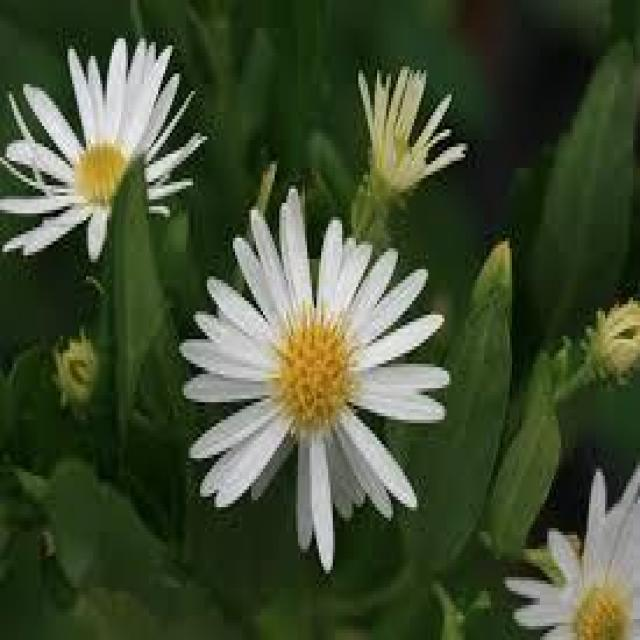organic waste: (182, 187, 449, 558), (7, 33, 209, 264), (516, 467, 638, 635), (352, 54, 470, 198)
